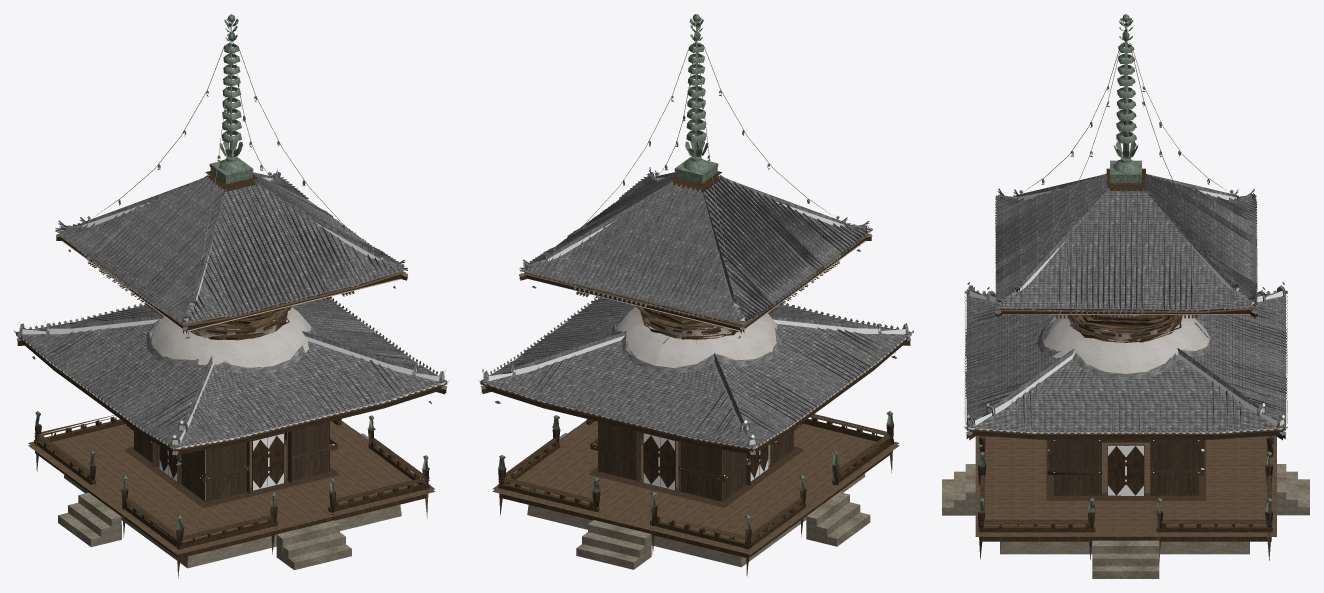
The model's file is Pagoda_Tahoto_15m.gltf.
3 renders of one model, left to right at view 1: azimuth 30°, elevation 25°; view 2: azimuth 150°, elevation 25°; view 3: azimuth 270°, elevation 25°, orthographic.
Parts seen in each view (by area): view 1: Roof1_LOD0.001, Roof2_LOD0.001, Base_LOD0.001, Wall1_LOD0.001, Wall2_LOD0.001, Sorin_LOD0.001, Chainbell_LOD0.001, Door_SR_LOD0.001, Door_SL_LOD0.001; view 2: Roof1_LOD0.001, Roof2_LOD0.001, Base_LOD0.001, Wall1_LOD0.001, Wall2_LOD0.001, Sorin_LOD0.001, Chainbell_LOD0.001, Door_NR_LOD0.001, Door_NL_LOD0.001; view 3: Roof1_LOD0.001, Roof2_LOD0.001, Base_LOD0.001, Wall1_LOD0.001, Wall2_LOD0.001, Sorin_LOD0.001, Chainbell_LOD0.001, Door_ER_LOD0.001, Door_EL_LOD0.001.
Part boxes in pixels (bbox=[...]): Roof1_LOD0.001: bbox=[14, 297, 449, 455]; Roof2_LOD0.001: bbox=[55, 170, 407, 331]; Base_LOD0.001: bbox=[28, 411, 435, 578]; Wall1_LOD0.001: bbox=[17, 341, 446, 507]; Wall2_LOD0.001: bbox=[56, 237, 407, 367]; Sorin_LOD0.001: bbox=[209, 14, 253, 184]; Chainbell_LOD0.001: bbox=[87, 42, 375, 299]; Door_SR_LOD0.001: bbox=[267, 433, 284, 487]; Door_SL_LOD0.001: bbox=[252, 437, 267, 490]; Roof1_LOD0.001: bbox=[478, 296, 913, 454]; Roof2_LOD0.001: bbox=[519, 167, 872, 331]; Base_LOD0.001: bbox=[492, 411, 899, 576]; Wall1_LOD0.001: bbox=[481, 340, 910, 507]; Wall2_LOD0.001: bbox=[519, 237, 871, 367]; Sorin_LOD0.001: bbox=[674, 14, 718, 183]; Chainbell_LOD0.001: bbox=[552, 42, 839, 299]; Door_NR_LOD0.001: bbox=[658, 436, 675, 490]; Door_NL_LOD0.001: bbox=[643, 432, 658, 486]; Roof1_LOD0.001: bbox=[964, 282, 1287, 439]; Roof2_LOD0.001: bbox=[995, 168, 1258, 318]; Base_LOD0.001: bbox=[942, 435, 1309, 578]; Wall1_LOD0.001: bbox=[966, 434, 1285, 500]; Wall2_LOD0.001: bbox=[995, 206, 1257, 373]; Sorin_LOD0.001: bbox=[1110, 14, 1141, 183]; Chainbell_LOD0.001: bbox=[1019, 42, 1233, 285]; Door_ER_LOD0.001: bbox=[1125, 444, 1144, 496]; Door_EL_LOD0.001: bbox=[1107, 444, 1125, 495].
Size of the model in its own units: 10.76 by 15.74 by 10.77.
Materials: 13 (12 with a texture image).
